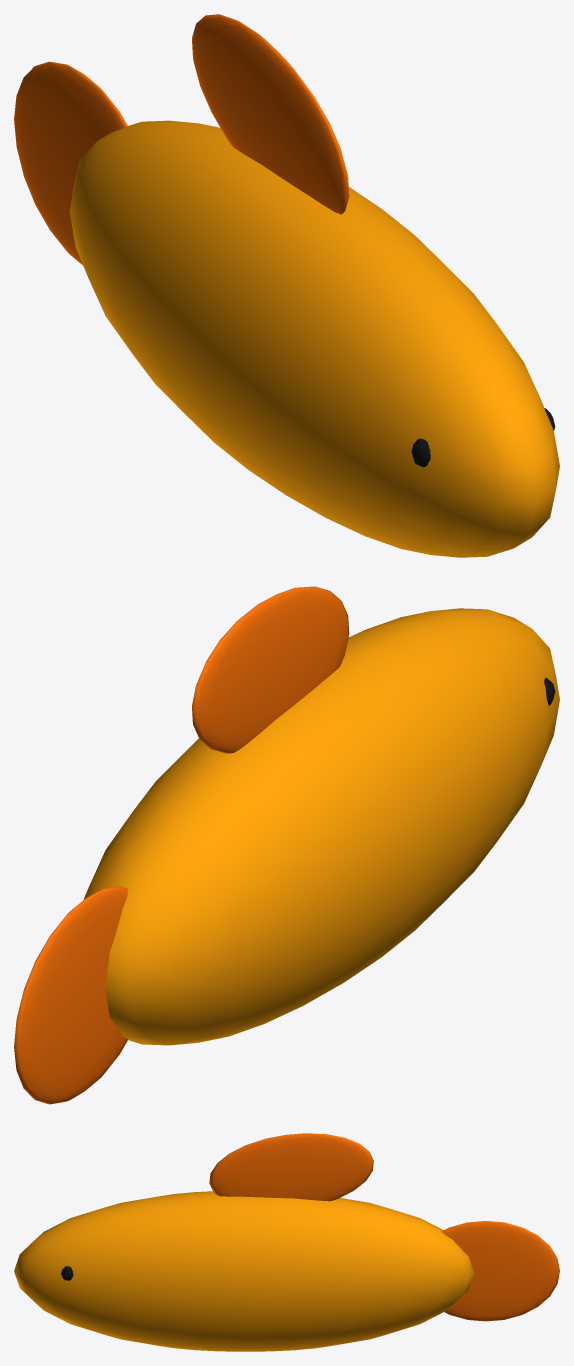
The model's file is goldfish.glb.
3 views of the same model, one above another, from view 1: azimuth 30°, elevation 25°; view 2: azimuth 150°, elevation 25°; view 3: azimuth 270°, elevation 25° (orthographic). The views are drawn at different scales.
Parts seen in each view (by area): view 1: goldfish; view 2: goldfish; view 3: goldfish.
Boxes of the visible parts, x1,y1,x2,y2 form: goldfish: (14, 14, 559, 557); goldfish: (14, 586, 559, 1104); goldfish: (14, 1133, 559, 1351).
Size of the model in its own units: 0.14 by 0.2555 by 0.59.
